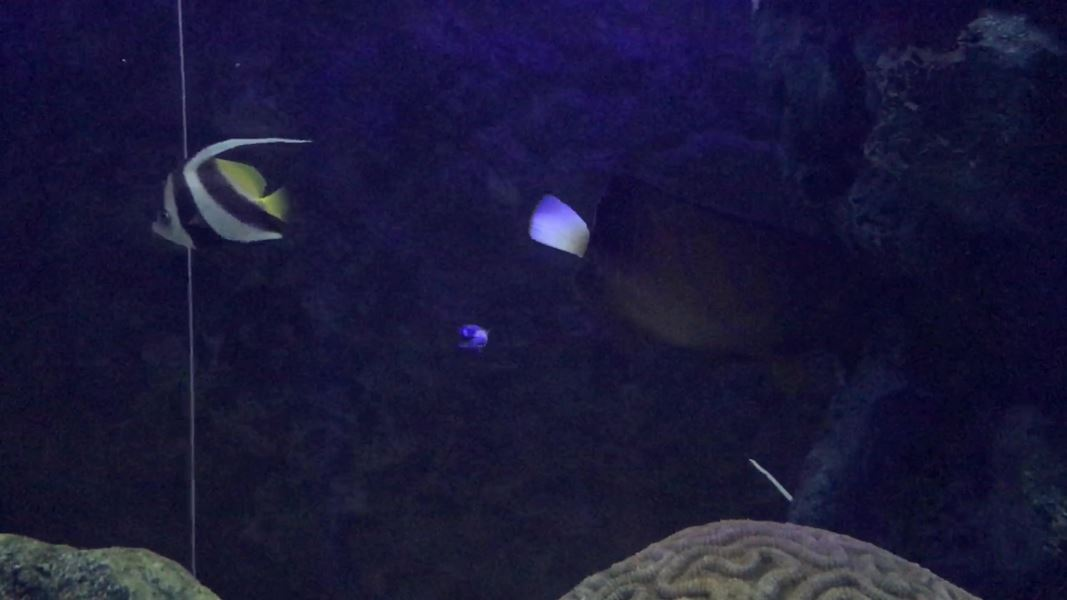Blue ring angelfish: (520, 161, 906, 397)
